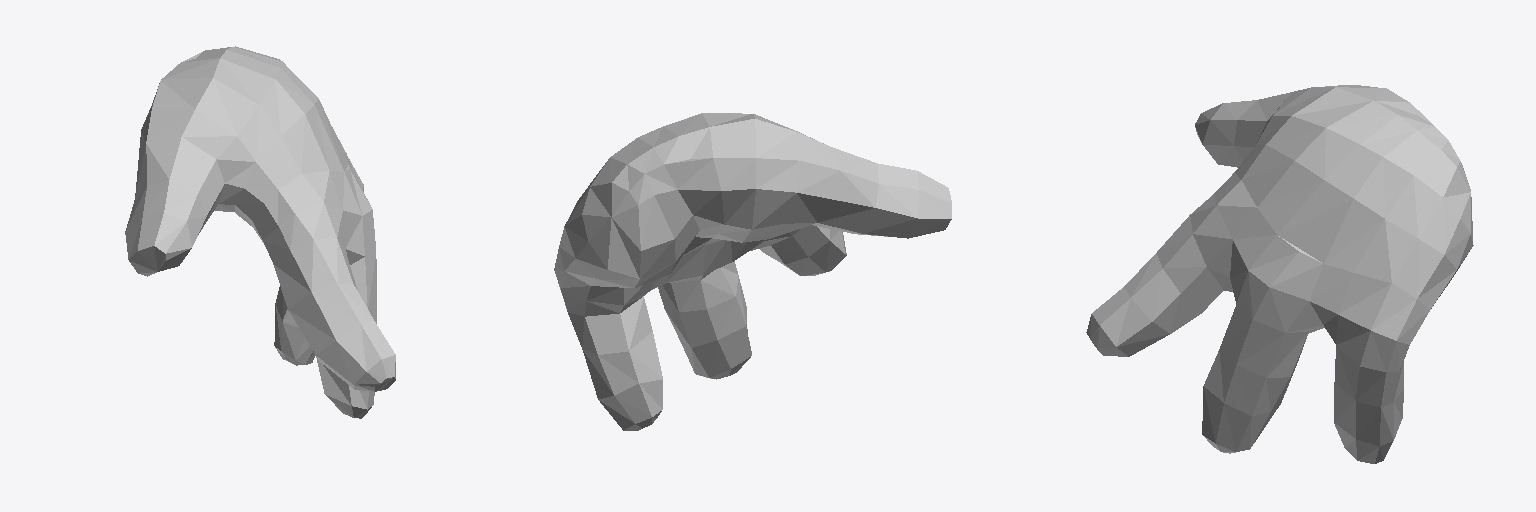
Rendered from armL.obj.
The picture shows the model from 3 angles: view 1: azimuth 30°, elevation 25°; view 2: azimuth 150°, elevation 25°; view 3: azimuth 270°, elevation 25°; orthographic projection.
Parts seen in each view (by area): view 1: initialShadingGroup handL; view 2: initialShadingGroup handL; view 3: initialShadingGroup handL.
Part boxes in pixels (left/top/right/bottom): initialShadingGroup handL: left=125, top=46, right=395, bottom=418; initialShadingGroup handL: left=554, top=113, right=951, bottom=430; initialShadingGroup handL: left=1086, top=85, right=1473, bottom=463.
Bounding box in the file's own units: 0.9734 × 0.9659 × 1.05.